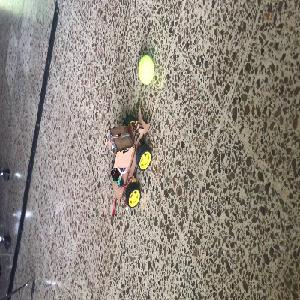Ball: (137, 55, 154, 85)
Robot: (103, 105, 152, 208)
